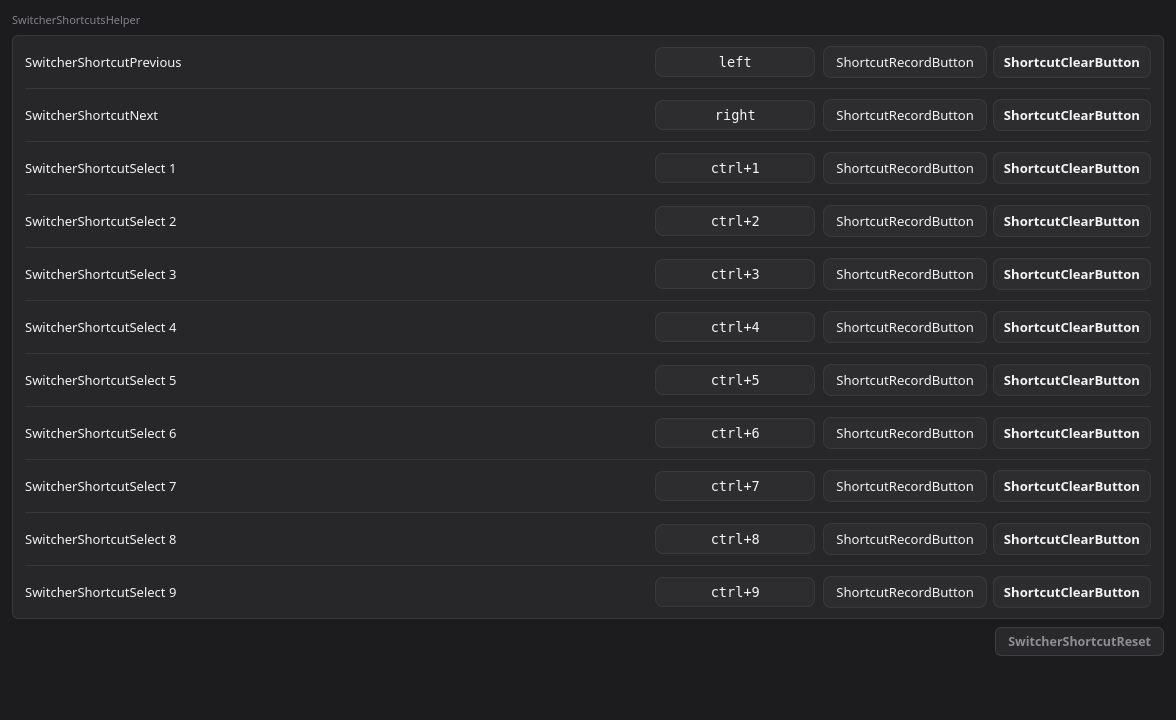
Test: SwitcherShortcutsSection › rejects a duplicate key with an inline error and saves nothing
This screenshot has width=1176, height=720.
Click the button with aria-label ": ShortcutRecordButton".
click(905, 115)  # box left=823, top=99, right=987, bottom=131
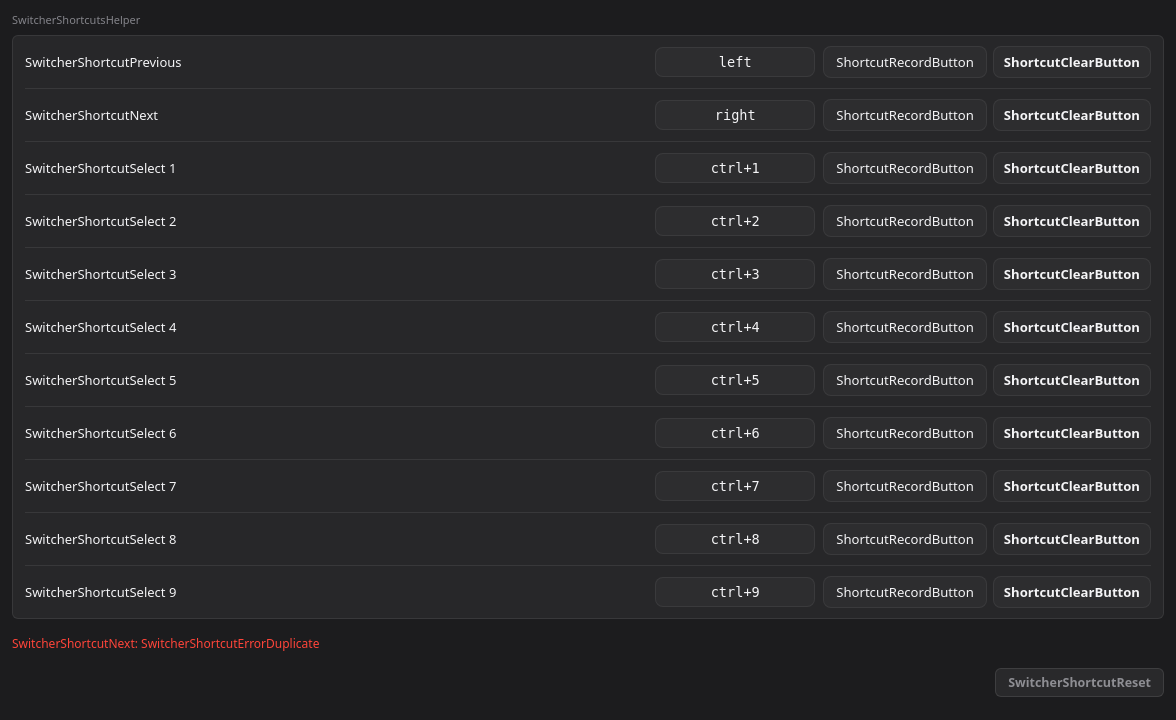
Check: the message "SwitcherShortcutNext: SwitcherShortcutErrorDuplicate" is shown, box left=12, top=635, right=319, bottom=652
